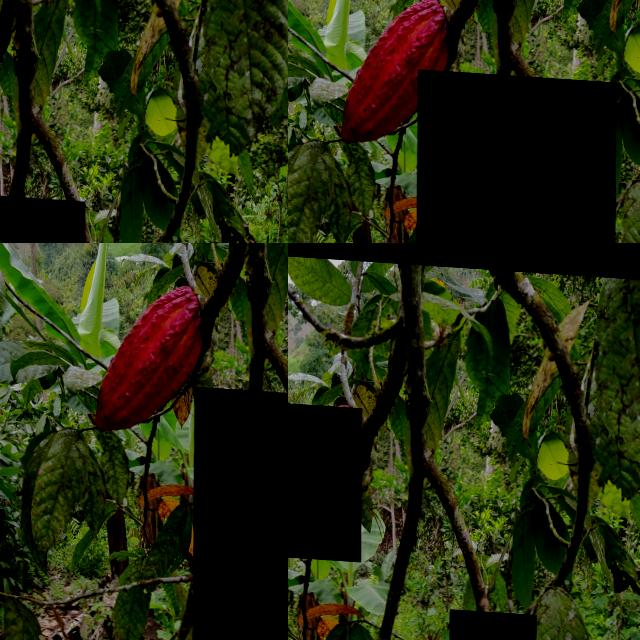Sana: (416, 65, 616, 243), (193, 382, 288, 640), (288, 398, 362, 557)
